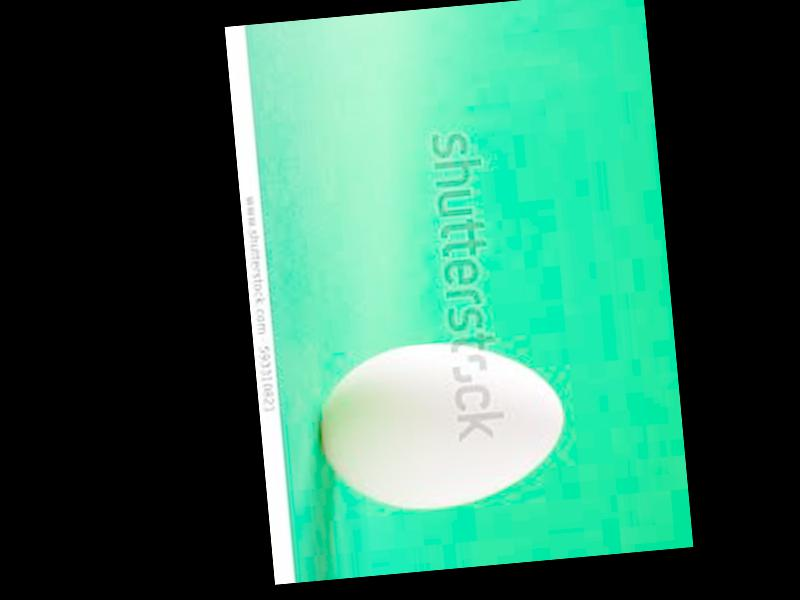Eggs: (310, 333, 569, 519)
